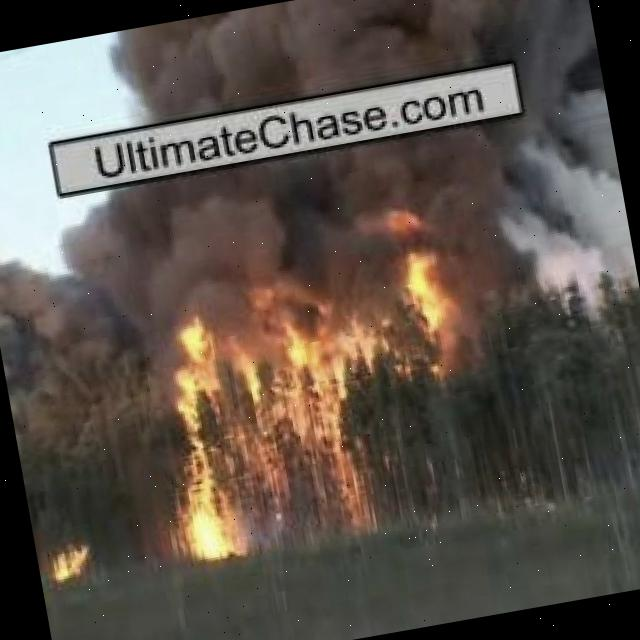fire: (132, 276, 384, 565), (379, 189, 478, 383), (43, 541, 107, 591)
